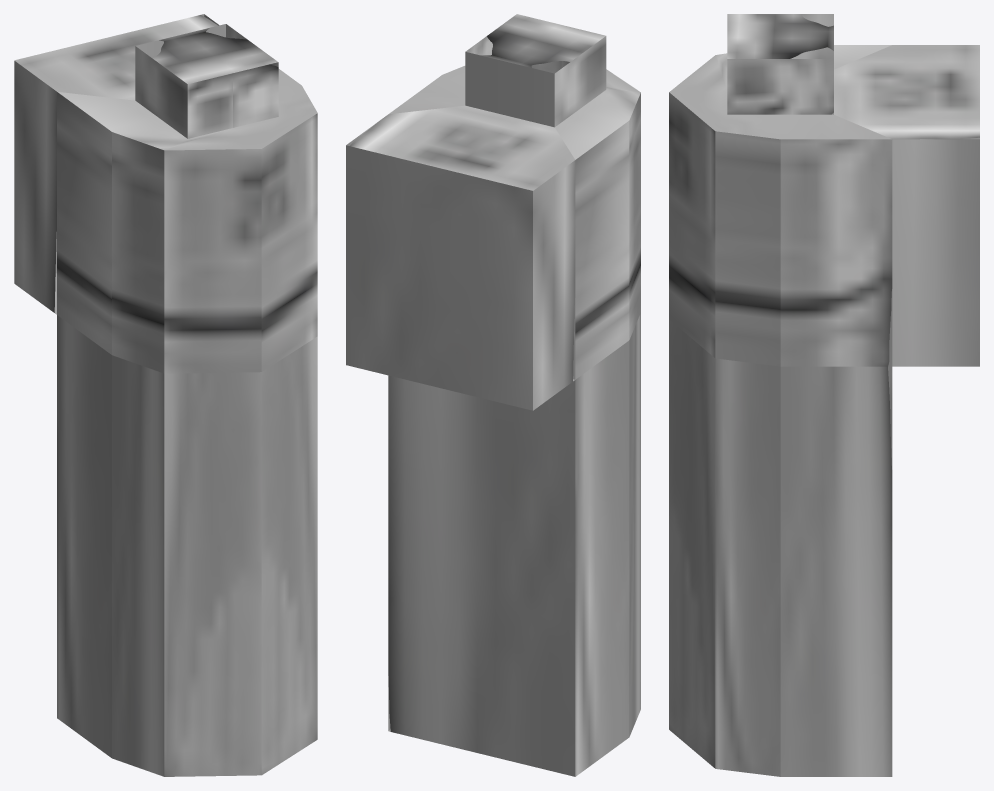
File: FilterAquarium (2).fbx
3 renders of one model, left to right at view 1: azimuth 30°, elevation 25°; view 2: azimuth 150°, elevation 25°; view 3: azimuth 270°, elevation 25°, orthographic. The views are drawn at different scales.
Visible parts, largest first — view 1: Cube; view 2: Cube; view 3: Cube.
Boxes of the visible parts, <box> form: Cube: <box>14,14,317,776</box>; Cube: <box>346,14,640,776</box>; Cube: <box>669,14,979,776</box>.
Bounding box in the file's own units: 99.16 × 340 × 138.
1 material, 1 textured.
